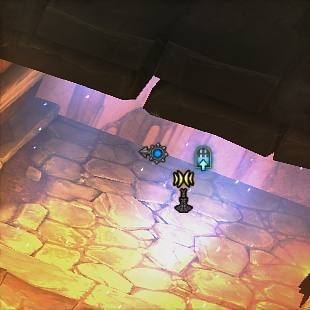ChannPylon: (170, 168, 196, 214)
